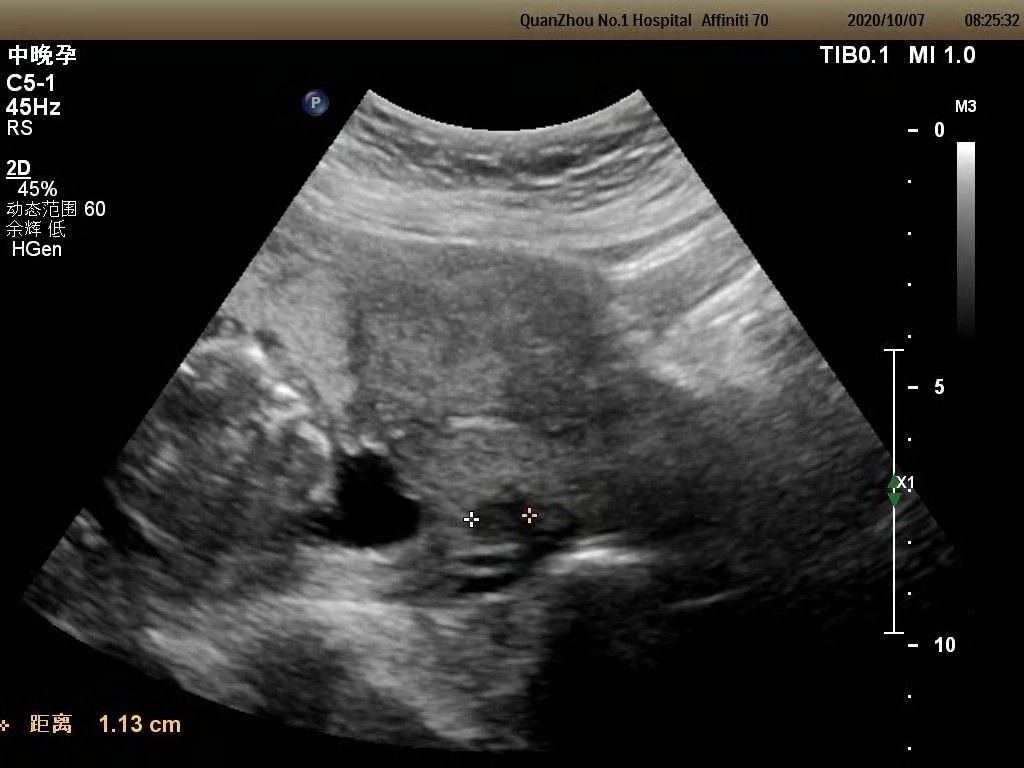肌瘤: (474, 507, 535, 533)
